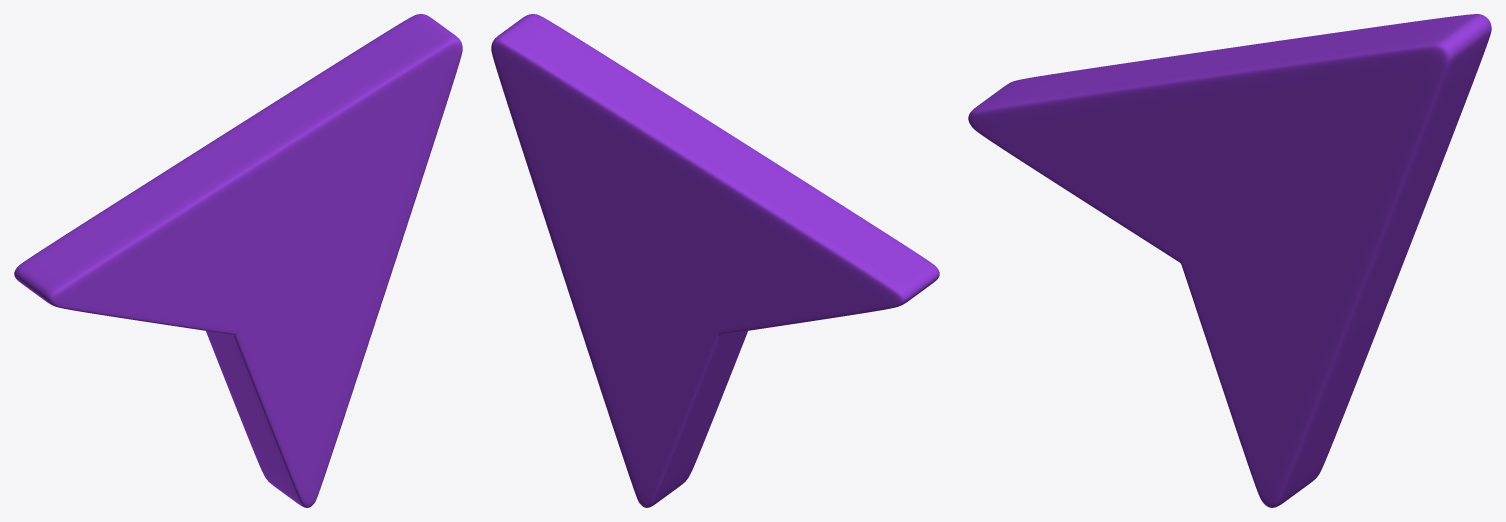
The model's file is location.fbx.
The picture shows the model from 3 angles, left to right: view 1: azimuth 30°, elevation 25°; view 2: azimuth 150°, elevation 25°; view 3: azimuth 330°, elevation 25°; orthographic projection. The views are drawn at different scales.
Visible parts, largest first — view 1: Circle.020; view 2: Circle.020; view 3: Circle.020.
Part boxes in pixels (x1,y1,x2,y2): Circle.020: (14,14,462,507); Circle.020: (491,14,939,507); Circle.020: (968,14,1491,507).
Bounding box in the file's own units: 179 × 179 × 29.16.
